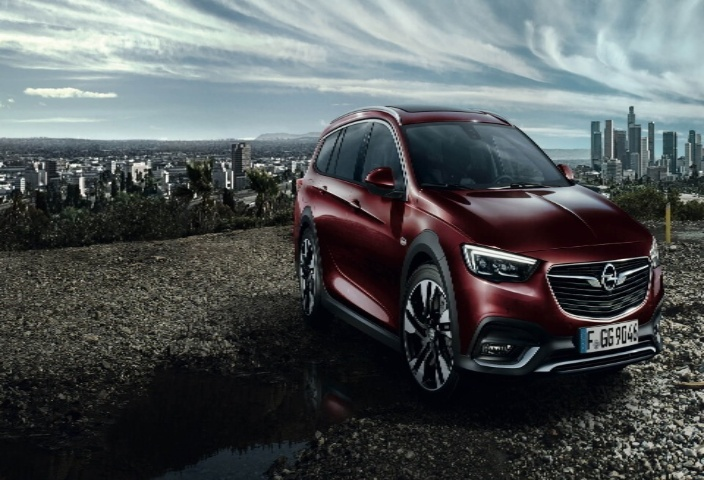camper: (272, 111, 673, 405)
